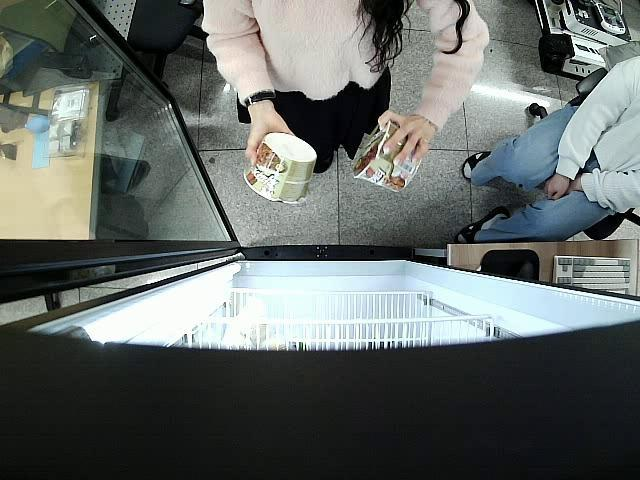03_chapagetti_L: (244, 131, 316, 205), (350, 120, 420, 196)
